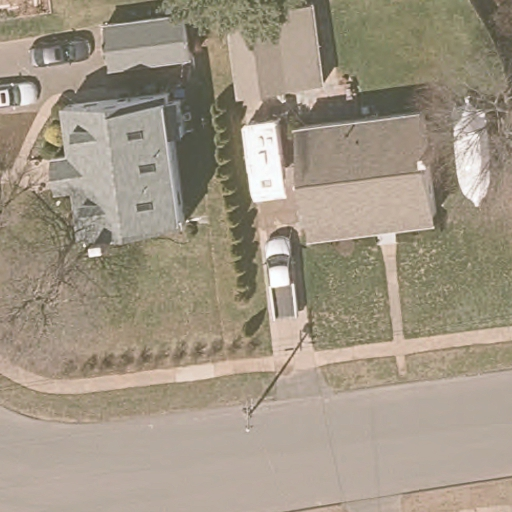DT: (241, 374, 280, 432)
